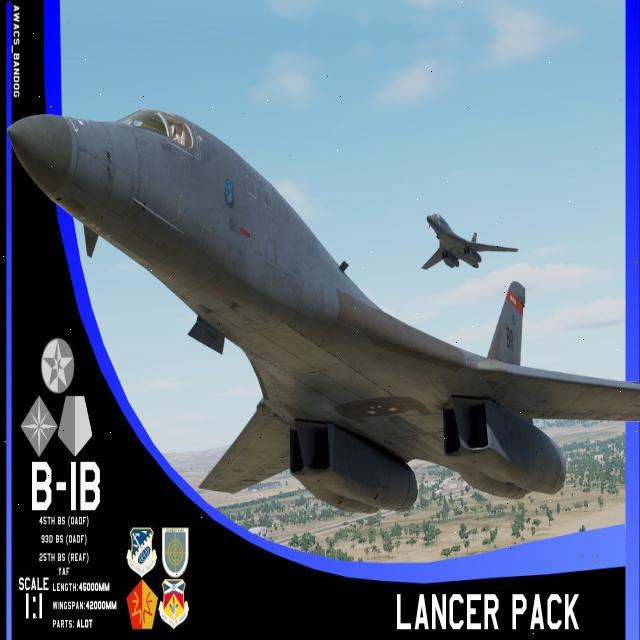B1: (3, 88, 640, 550), (414, 188, 526, 303)
